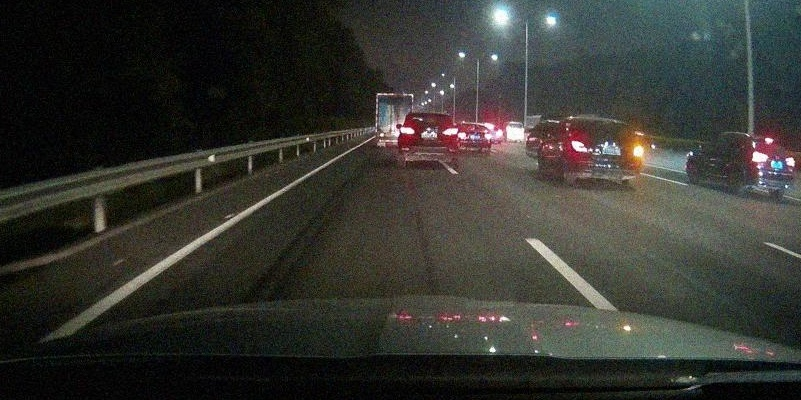L_light: (571, 139, 588, 152), (752, 151, 768, 162), (399, 127, 414, 134)
R_light: (629, 145, 643, 157), (442, 128, 458, 135), (785, 157, 794, 166)
T_light: (600, 121, 612, 127), (425, 114, 435, 118), (765, 138, 773, 143)
night-brake: (750, 136, 795, 199)
night-no: (398, 112, 459, 168)
night-right: (569, 117, 644, 187)
